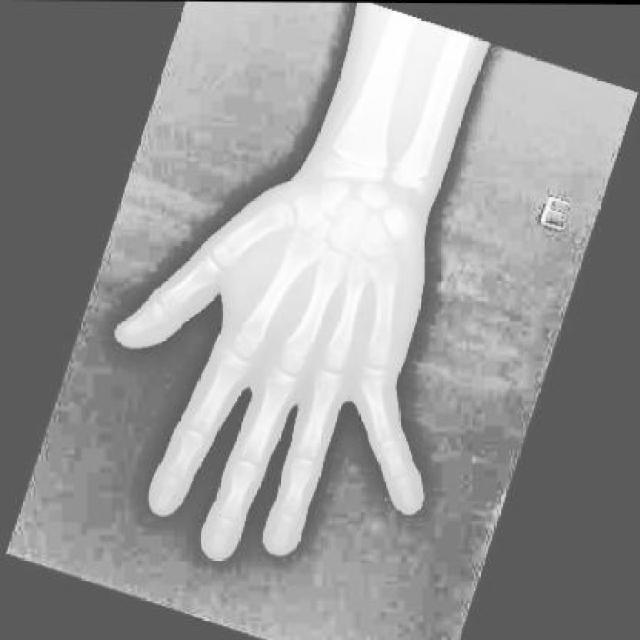Fracture: (352, 365, 388, 395)
